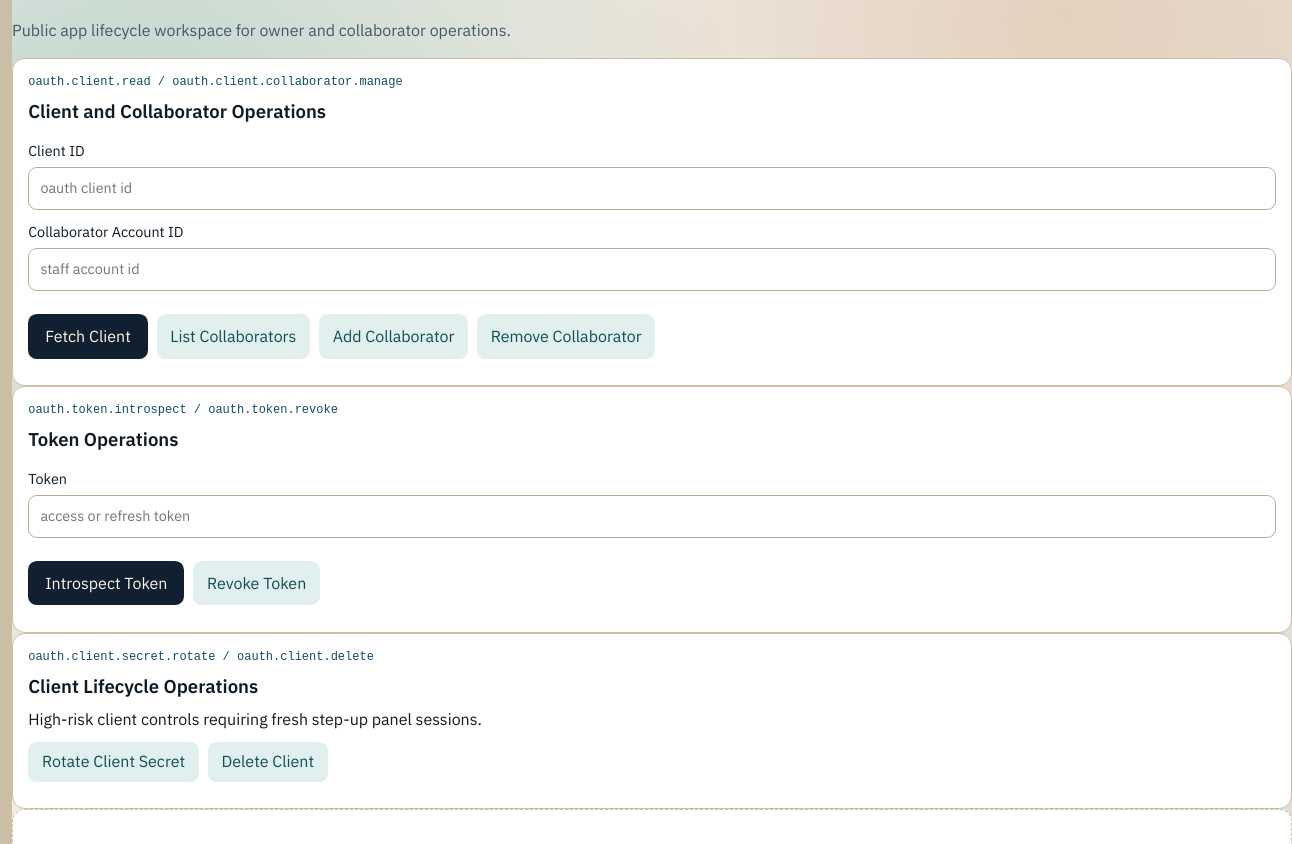
Scenario: AdminHomePage › surfaces authorization messaging when collaborator add is forbidden
This screenshot has width=1292, height=844.
Type "client-123" into the field with placeholder "oauth client id" at (652, 188), box [28,167,1276,210]
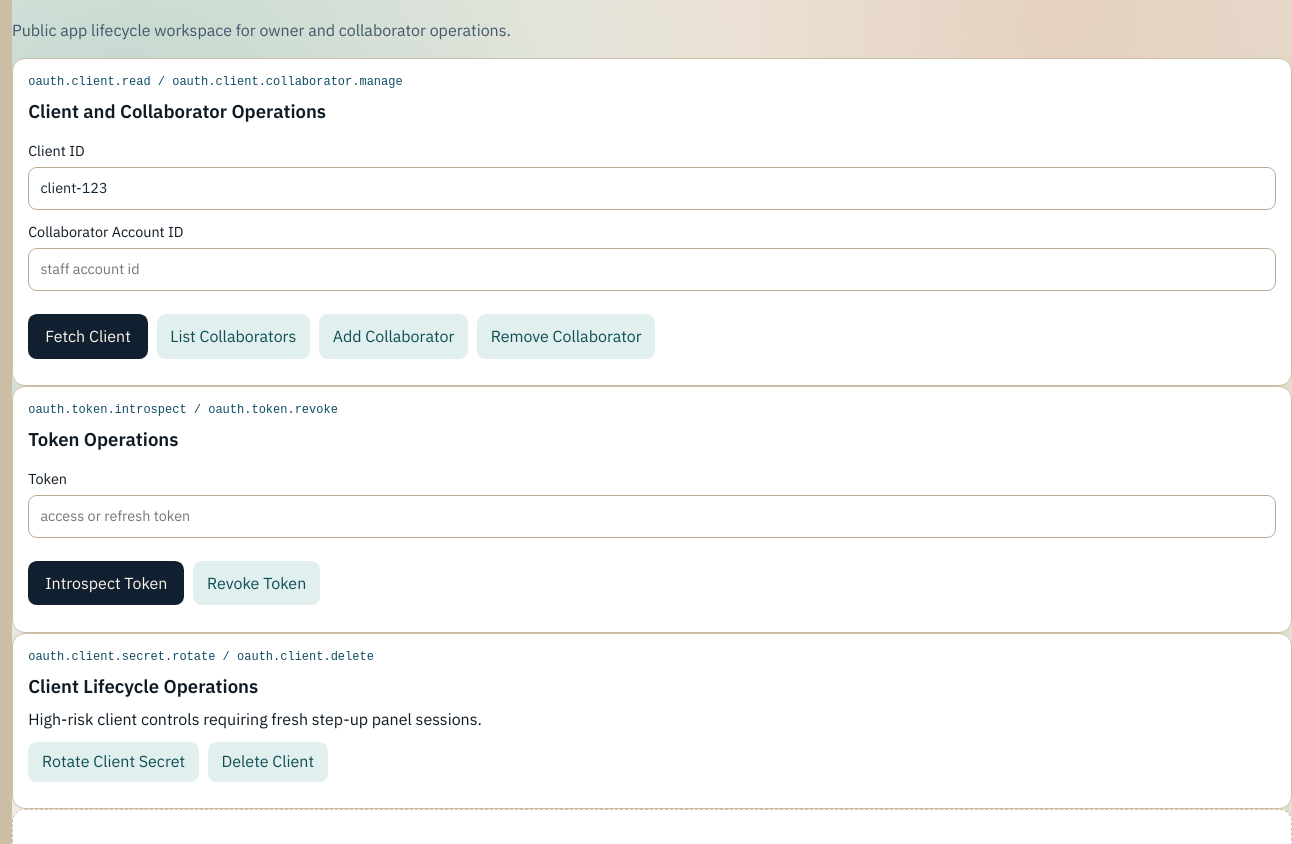
Type "staff-7" into the field with placeholder "staff account id" at (652, 270), box [28,248,1276,291]
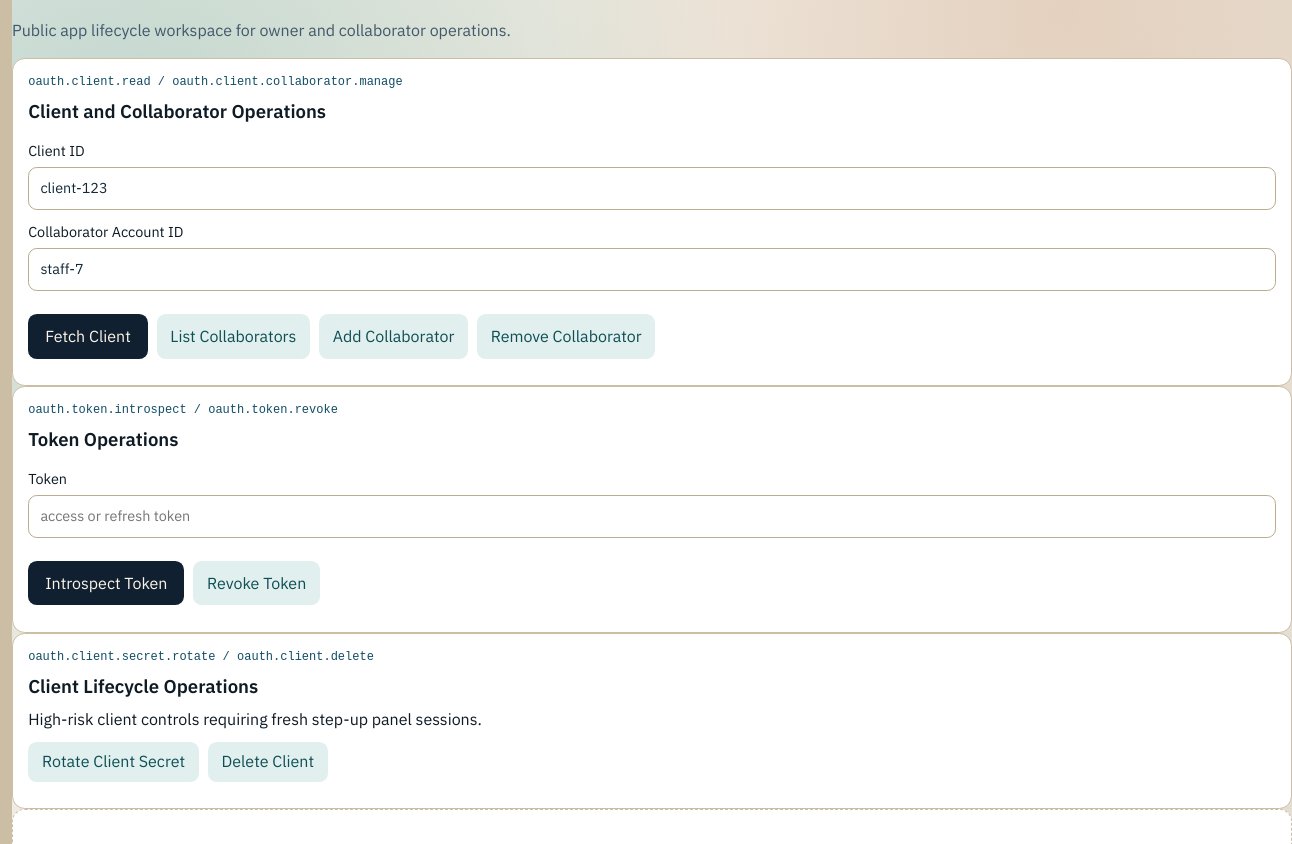
Click the button "Add Collaborator" at (394, 336), box [319,314,468,358]
(page scrolled)
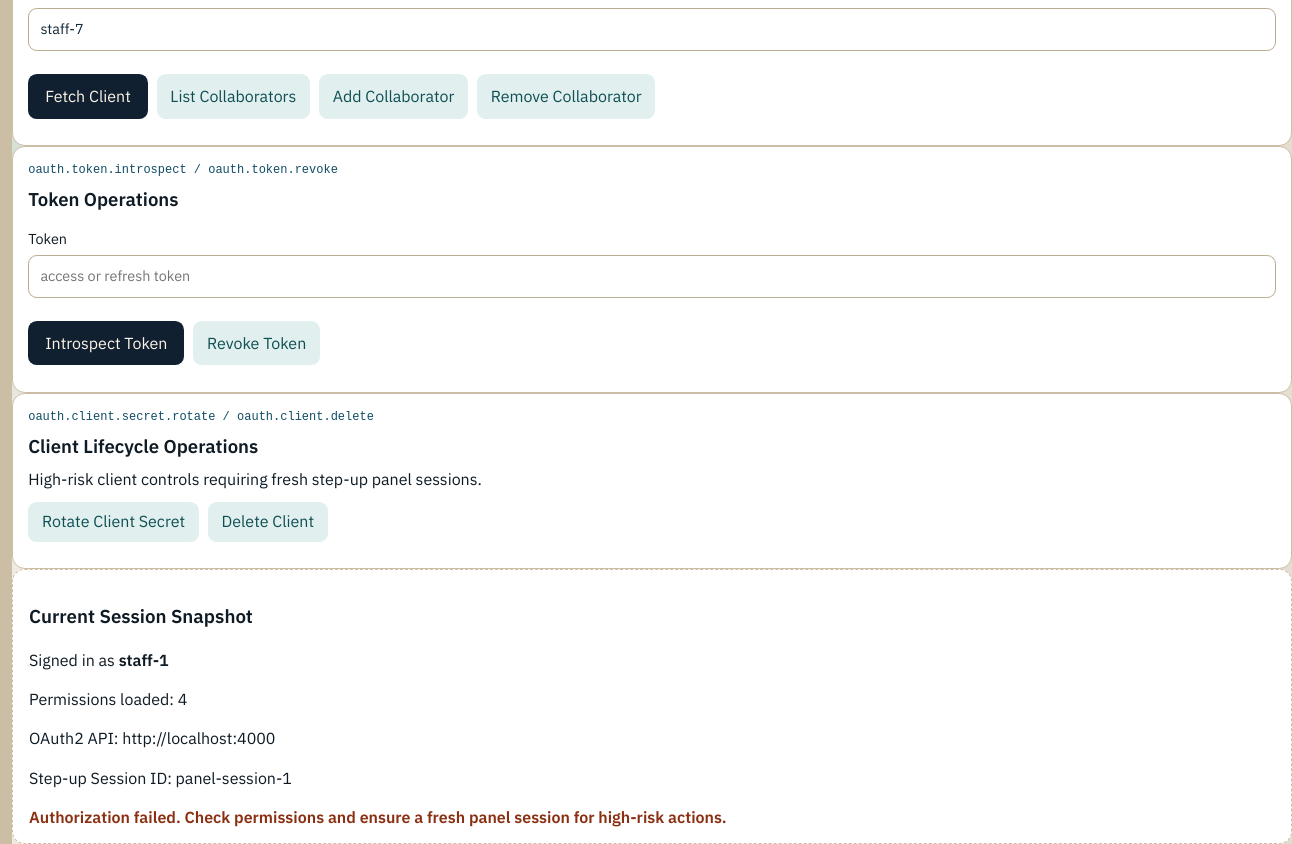
Now the text "Authorization failed. Check permissions" is shown, box [29,807,727,827]
